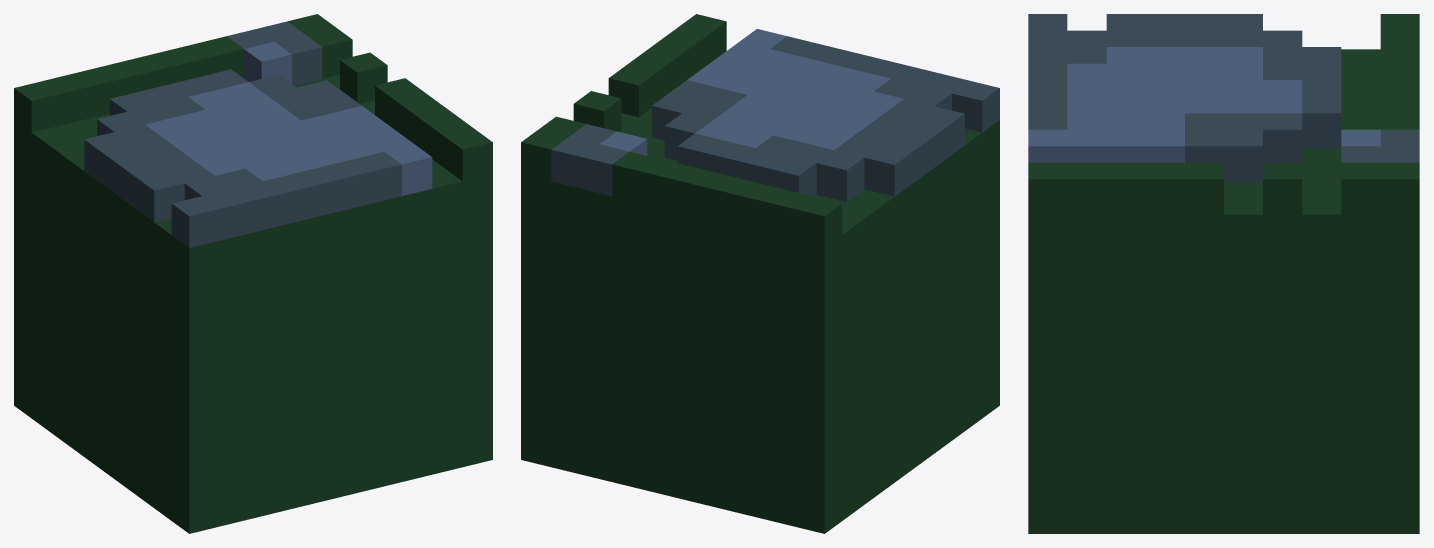
File: Floor 2.obj
The picture shows the model from 3 angles, left to right: view 1: azimuth 30°, elevation 25°; view 2: azimuth 150°, elevation 25°; view 3: azimuth 270°, elevation 25°; orthographic projection. The views are drawn at different scales.
Bounding box in the file's own units: 10 × 10 × 10.
1 material, 1 textured.
